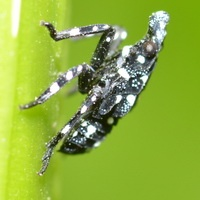insect: (20, 11, 169, 175)
